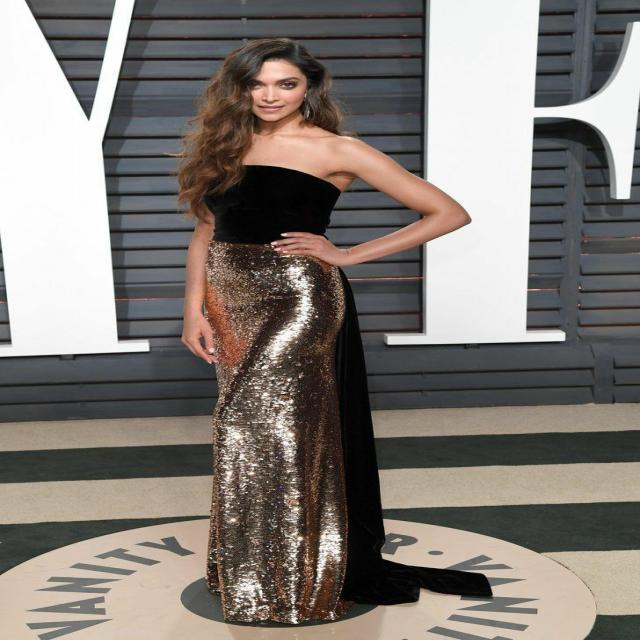female-dress: (171, 152, 370, 619)
